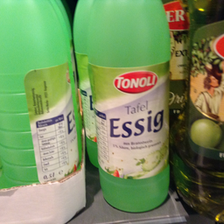vinegar: (83, 1, 177, 215)
